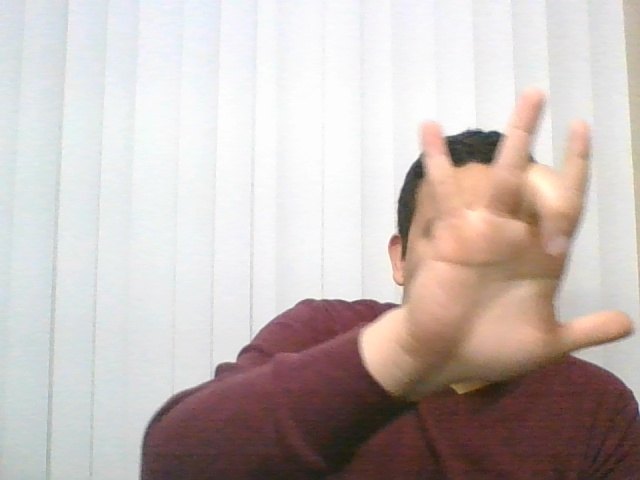Eight: (345, 75, 640, 408)
